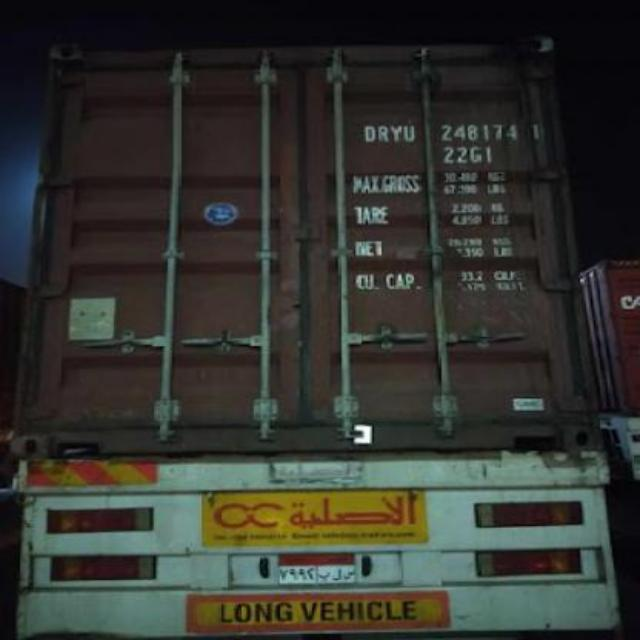1: (526, 118, 542, 146), (480, 117, 492, 143)
2: (436, 118, 454, 144)
4: (452, 117, 468, 143), (504, 118, 518, 146)
7: (490, 118, 502, 146)
8: (466, 121, 479, 141)
D: (360, 120, 376, 146)
R: (376, 120, 389, 148)
U: (402, 122, 414, 146)
Y: (390, 120, 402, 148)
